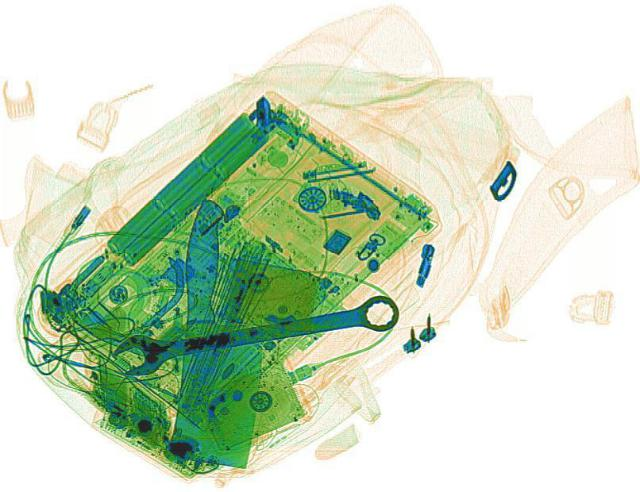Knife: (154, 196, 286, 465)
Wrench: (107, 289, 406, 376)
